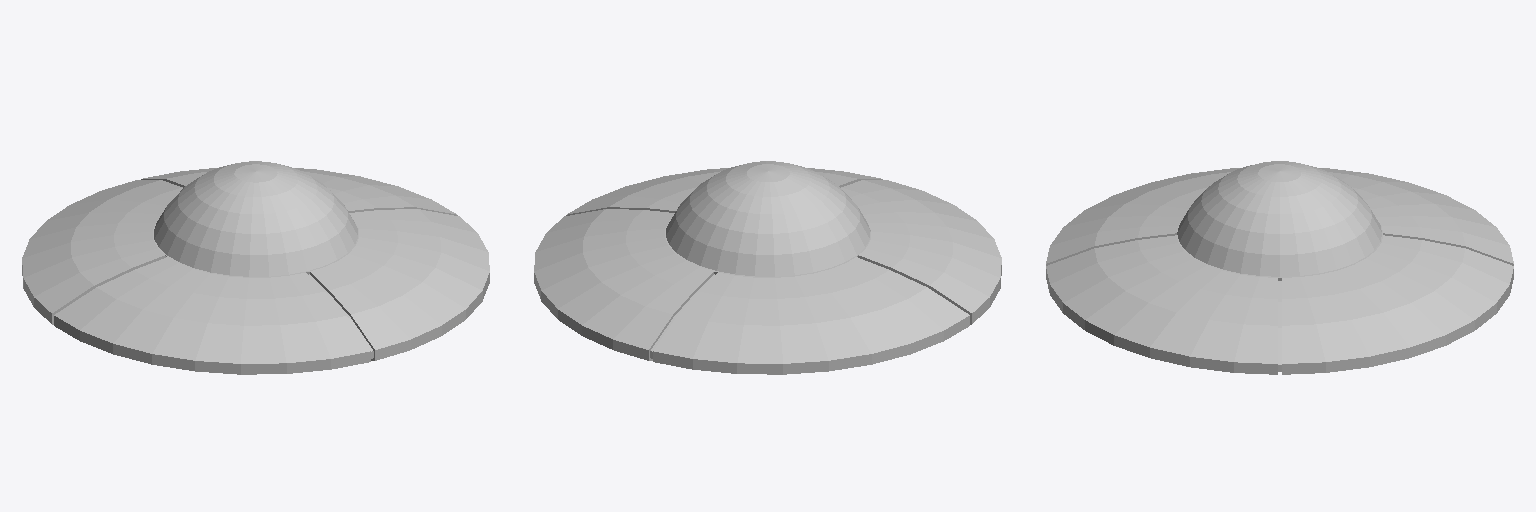
File: ufo.obj
The picture shows the model from 3 angles: view 1: azimuth 30°, elevation 25°; view 2: azimuth 150°, elevation 25°; view 3: azimuth 270°, elevation 25°; orthographic projection.
Parts seen in each view (by area): view 1: UFO_body, UFO_cockpit; view 2: UFO_body, UFO_cockpit; view 3: UFO_body, UFO_cockpit.
Part boxes in pixels (left/top/right/bottom): UFO_body: left=22, top=167, right=489, bottom=374; UFO_cockpit: left=154, top=161, right=357, bottom=276; UFO_body: left=534, top=168, right=1001, bottom=374; UFO_cockpit: left=666, top=161, right=870, bottom=276; UFO_body: left=1046, top=168, right=1513, bottom=374; UFO_cockpit: left=1177, top=161, right=1381, bottom=276.
Bounding box in the file's own units: 2.01 × 0.8026 × 2.01.